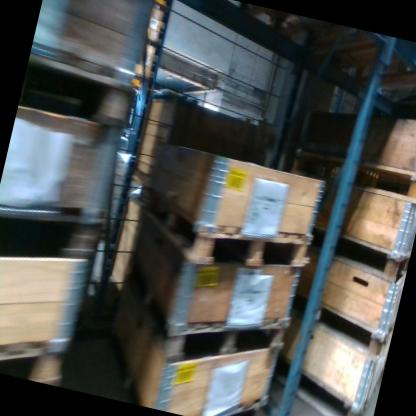pallet: (110, 260, 295, 389), (137, 186, 316, 288), (17, 48, 140, 134), (0, 185, 106, 283), (292, 145, 416, 206), (285, 293, 391, 359), (267, 355, 369, 416), (307, 226, 412, 282), (0, 323, 72, 387), (206, 387, 272, 416)
